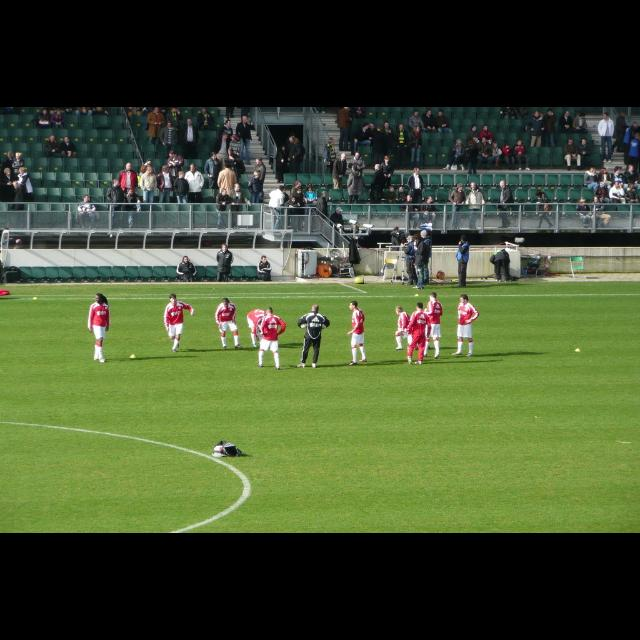Football: (354, 274, 364, 284)
